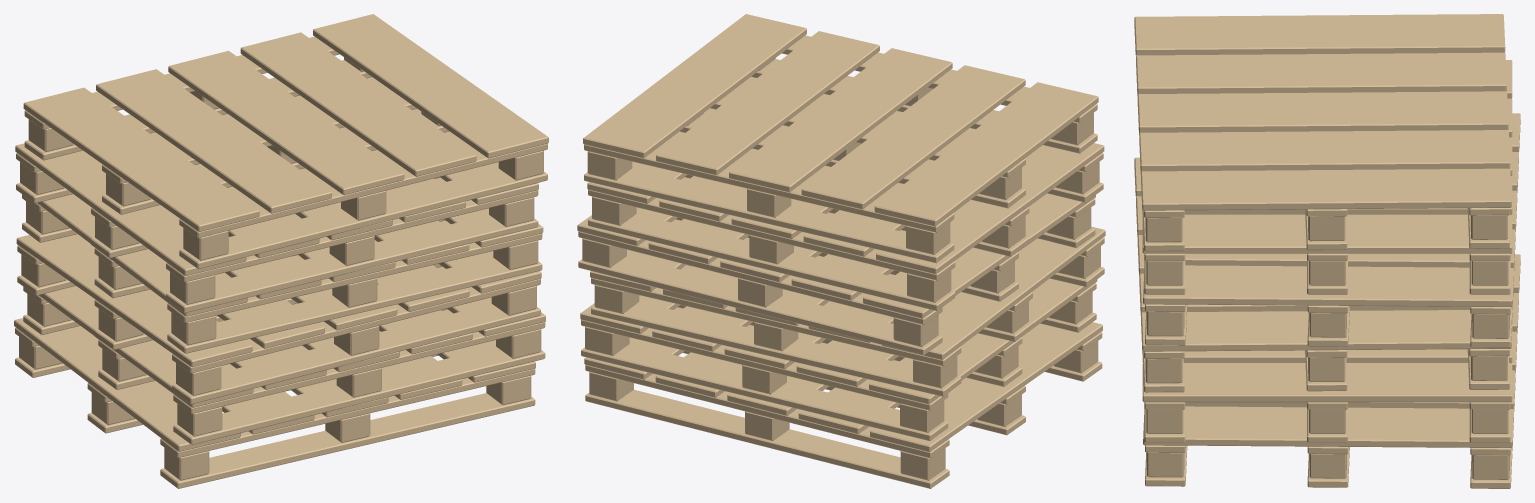
The model's file is empty-pallet-stack.glb.
3 renders of one model, left to right at view 1: azimuth 30°, elevation 25°; view 2: azimuth 150°, elevation 25°; view 3: azimuth 270°, elevation 25°, orthographic. The views are drawn at different scales.
Parts seen in each view (by area): view 1: empty-pallet-stack; view 2: empty-pallet-stack; view 3: empty-pallet-stack.
Boxes of the visible parts, x1,y1,x2,y2 form: empty-pallet-stack: (14, 14, 548, 488); empty-pallet-stack: (577, 14, 1105, 488); empty-pallet-stack: (1134, 14, 1520, 488).
Size of the model in its own units: 1.24 by 0.8639 by 1.05.
